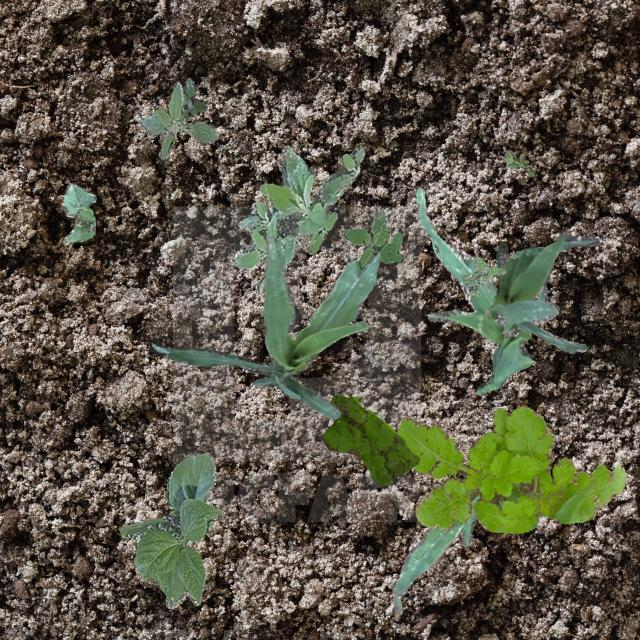crop: (148, 232, 380, 418), (414, 186, 546, 394), (118, 452, 222, 608), (484, 232, 598, 352), (392, 492, 480, 614), (60, 182, 96, 244)
weed: (397, 404, 626, 532), (228, 146, 364, 292), (322, 394, 418, 484), (138, 80, 218, 158), (342, 210, 402, 270), (462, 253, 504, 296), (180, 76, 206, 120), (502, 150, 534, 176)
